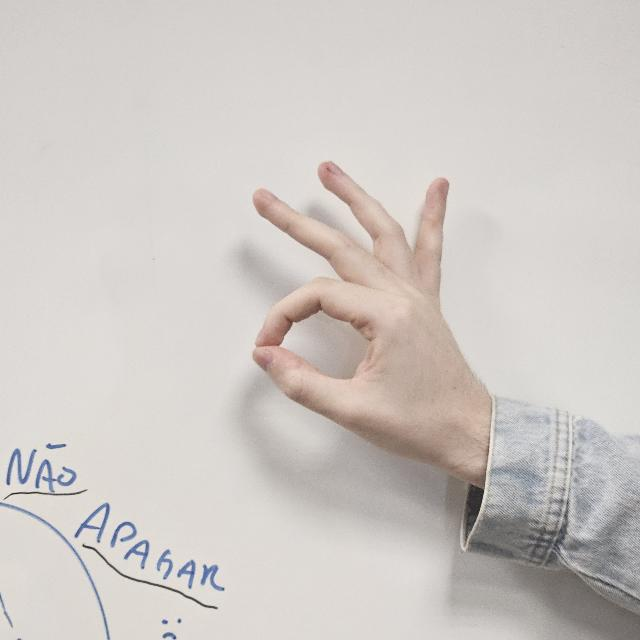Bolinha: (239, 148, 495, 507)
